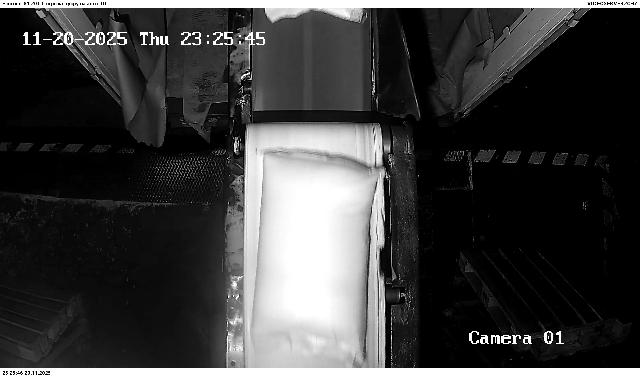bag: (250, 151, 386, 362), (266, 8, 366, 22)
